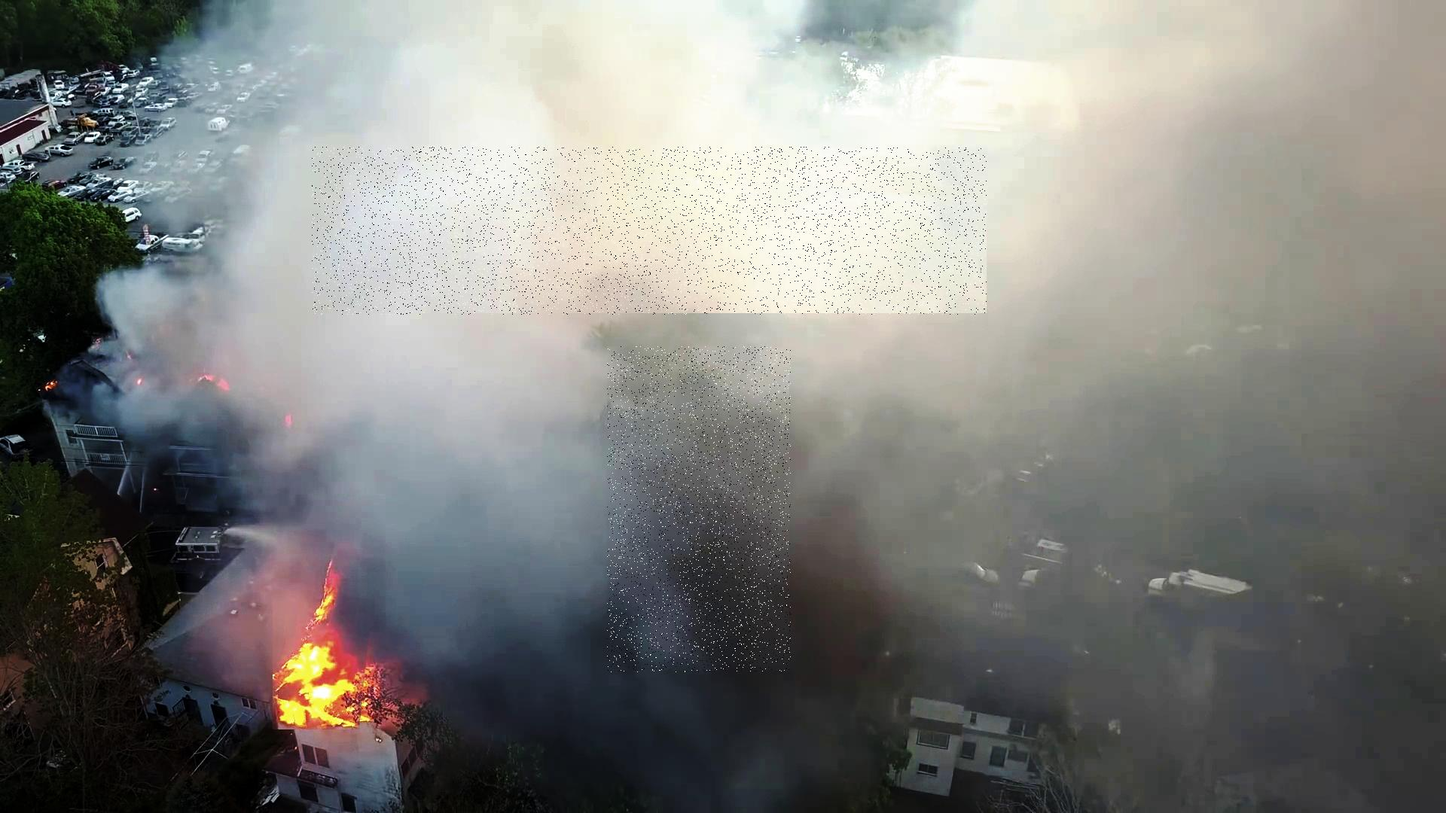fire: (273, 579, 374, 732)
smoke: (312, 147, 987, 315), (608, 347, 791, 673)
